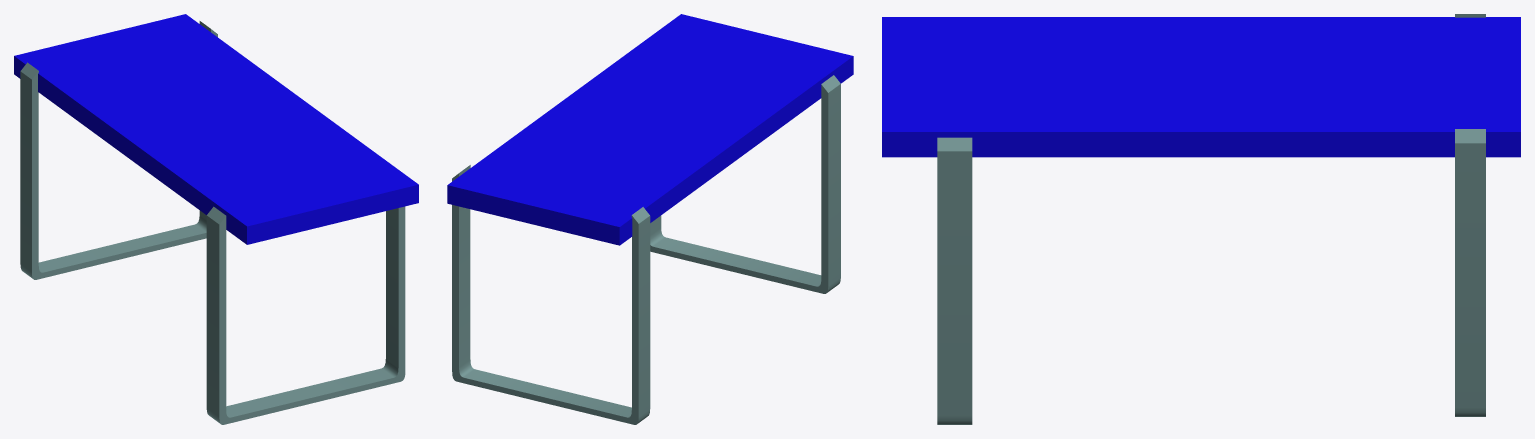
The model's file is A_JD_LivingroomTable_001.fbx.
The picture shows the model from 3 angles, left to right: view 1: azimuth 30°, elevation 25°; view 2: azimuth 150°, elevation 25°; view 3: azimuth 270°, elevation 25°; orthographic projection. The views are drawn at different scales.
Visible parts, largest first — view 1: Box001; view 2: Box001; view 3: Box001.
Boxes of the visible parts, x1,y1,x2,y2 form: Box001: [14, 14, 418, 424]; Box001: [447, 14, 853, 424]; Box001: [882, 14, 1520, 424].
Size of the model in its own units: 66.17 by 72.56 by 143.
